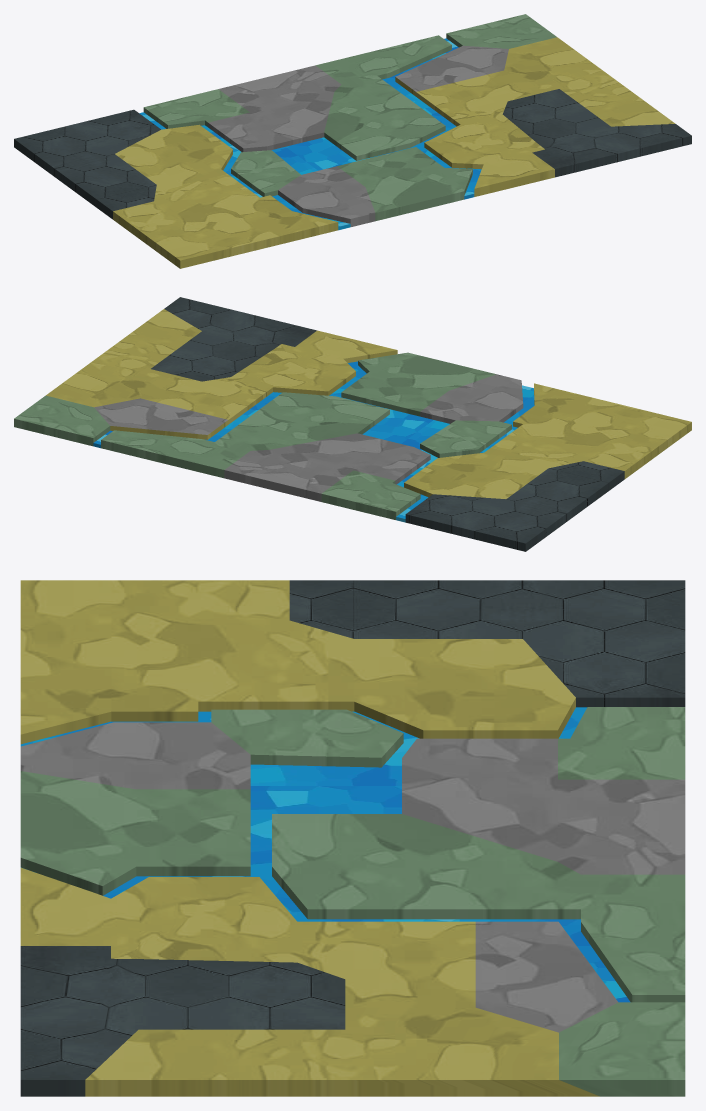
The model's file is Map.fbx.
The picture shows the model from 3 angles, top to bottom: view 1: azimuth 30°, elevation 25°; view 2: azimuth 150°, elevation 25°; view 3: azimuth 270°, elevation 25°; orthographic projection. The views are drawn at different scales.
Parts seen in each view (by area): view 1: Map 4; view 2: Map 4; view 3: Map 4.
Boxes of the visible parts, bbox=[...] form: Map 4: bbox=[14, 14, 691, 268]; Map 4: bbox=[14, 297, 691, 551]; Map 4: bbox=[20, 580, 685, 1096].
Bounding box in the file's own units: 192000 × 3000 × 108000.
Materials: 5 (5 with a texture image).
